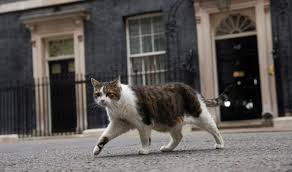cat: (88, 77, 227, 154)
